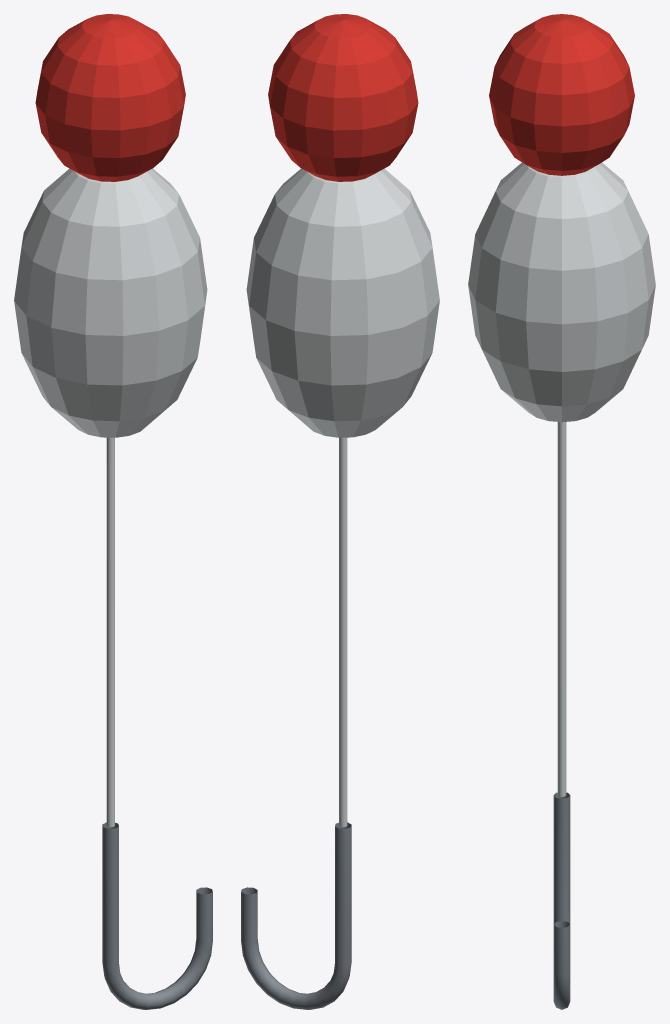
Rendered from FloatAndHook.fbx.
3 views of the same model, side by side, from view 1: azimuth 30°, elevation 25°; view 2: azimuth 150°, elevation 25°; view 3: azimuth 270°, elevation 25° (orthographic). The views are drawn at different scales.
Parts seen in each view (by area): view 1: Sphere; view 2: Sphere; view 3: Sphere.
Part boxes in pixels (left/top/right/bottom): Sphere: left=14, top=14, right=212, bottom=1009; Sphere: left=241, top=14, right=439, bottom=1009; Sphere: left=468, top=14, right=655, bottom=1009.
Size of the model in its own units: 9.9 by 50.9 by 9.
